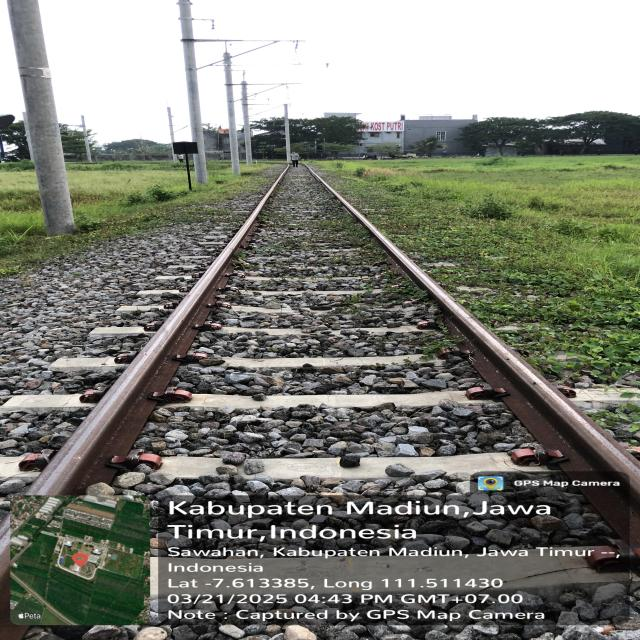rail-detection: (310, 171, 640, 552), (31, 189, 272, 495)
